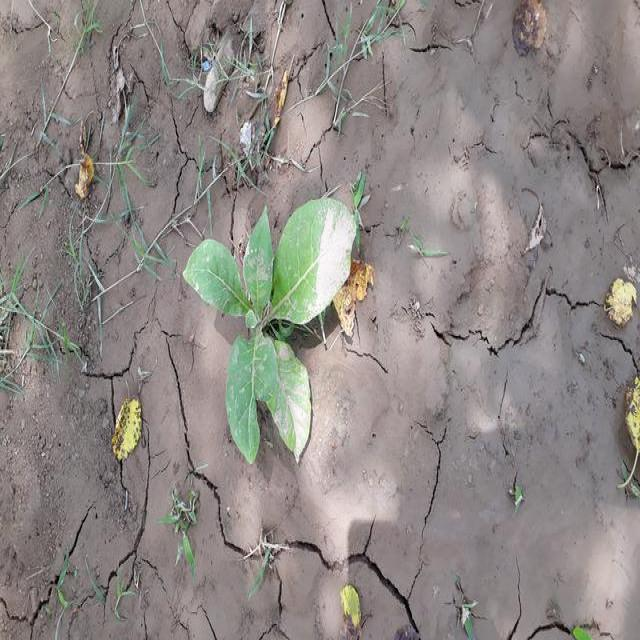crop: (193, 202, 360, 464)
